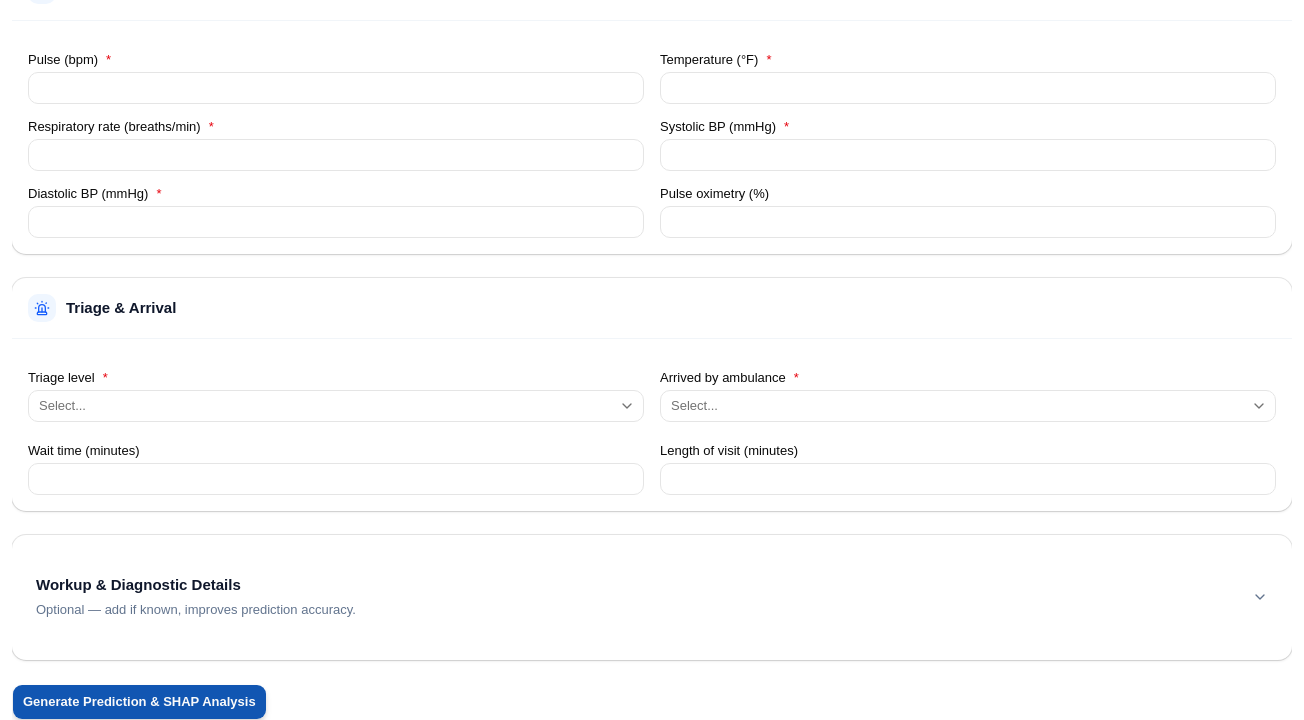
Test: PatientRecordForm › blocks submission and shows field errors when required fields are missing
(page scrolled)
Click the button "Generate Prediction & SHAP Analysis" at x=139, y=702, box x1=12 y1=684 x2=267 y2=719
(page scrolled)
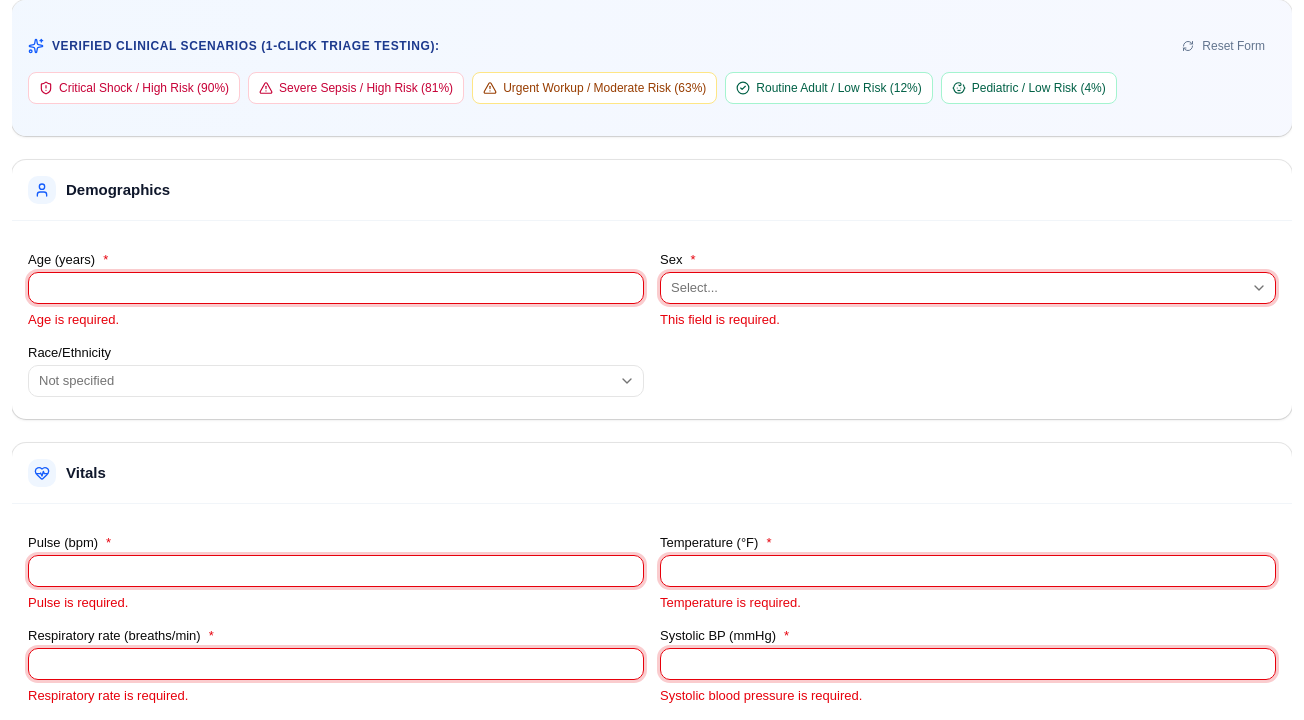
Now the message "Age is required." is shown, box x1=28 y1=312 x2=119 y2=327
